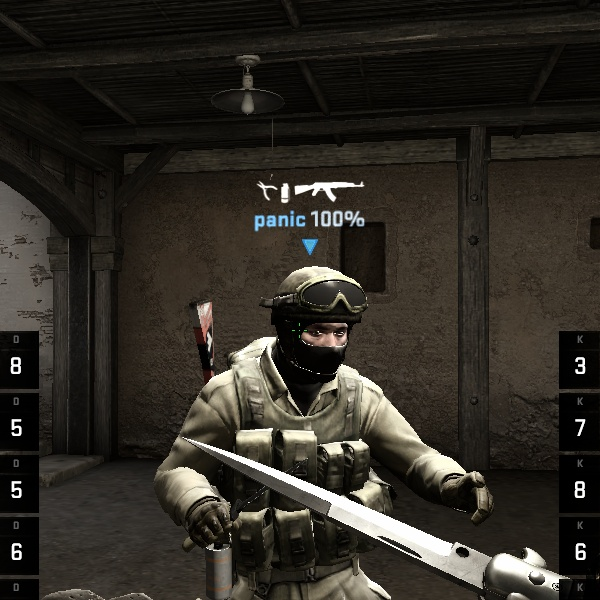ct_body: (138, 267, 468, 600)
ct_head: (246, 261, 379, 398)
